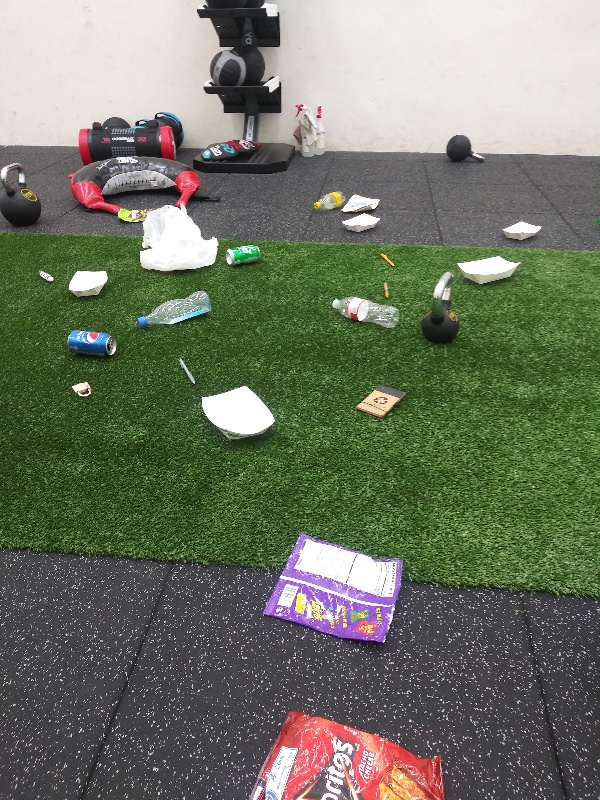bag: (239, 706, 453, 800), (261, 528, 406, 657), (339, 192, 385, 213), (114, 205, 153, 226)
bottle: (135, 286, 212, 332), (326, 292, 405, 335), (309, 189, 348, 212)
can: (62, 326, 119, 359), (224, 242, 265, 268)
plate: (196, 381, 279, 442), (453, 254, 522, 288), (68, 268, 110, 301), (336, 209, 382, 235), (500, 218, 547, 241)
